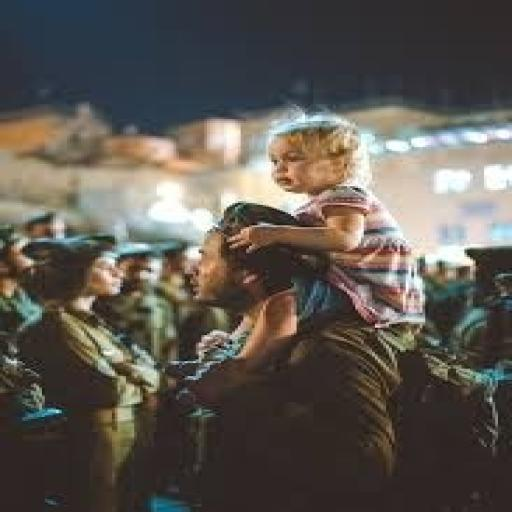hugging: (221, 110, 431, 335)
